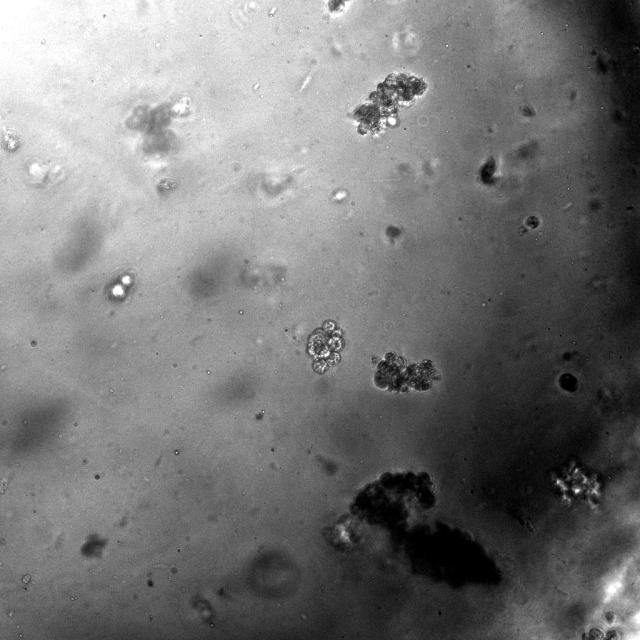organoid: (349, 472, 501, 588), (353, 73, 427, 134), (124, 97, 190, 154), (374, 351, 441, 393), (551, 460, 602, 508), (306, 321, 344, 373), (582, 612, 619, 639), (106, 272, 132, 301), (479, 157, 496, 184), (559, 372, 577, 392), (524, 214, 541, 230)
